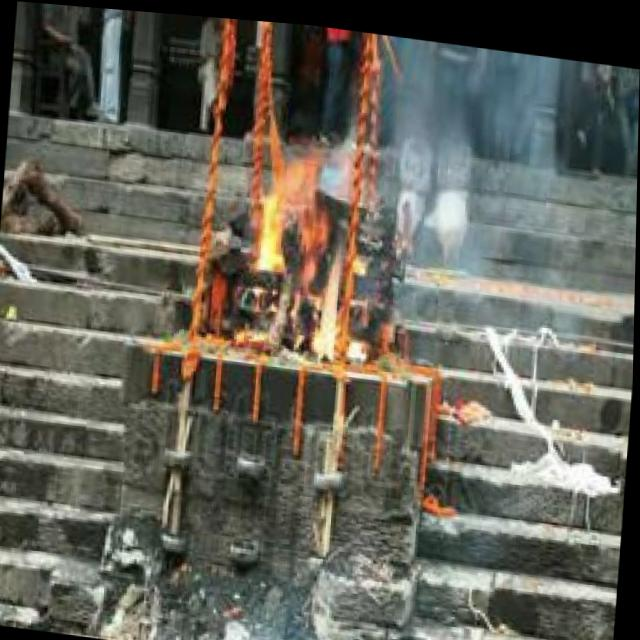Fire: (243, 126, 360, 360)
